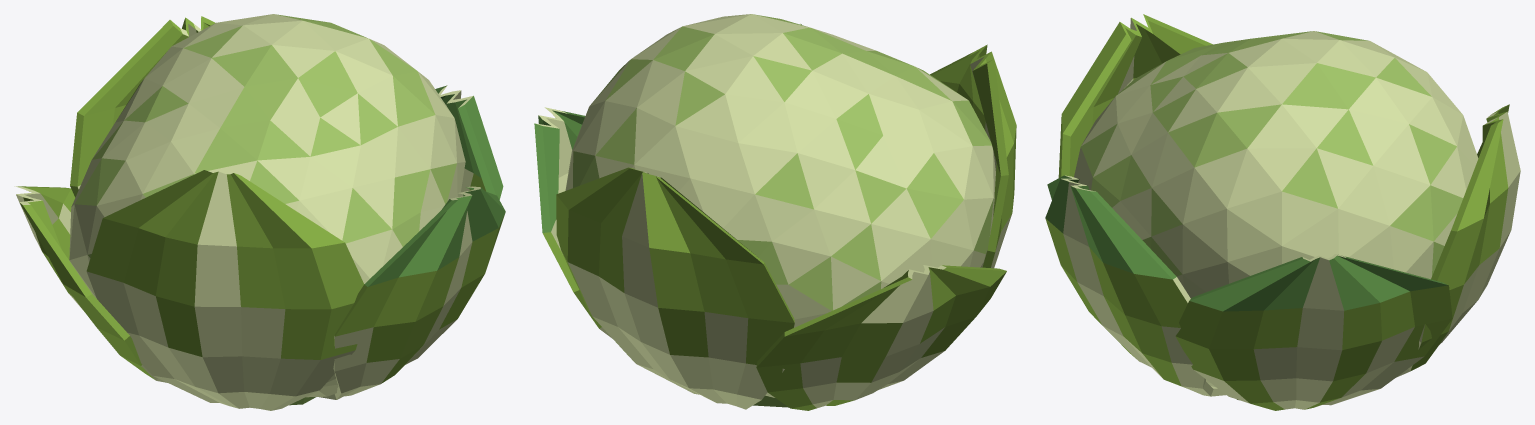
Rendered from mdvl_food_cabbage_01.glb.
3 views of the same model, side by side, from view 1: azimuth 30°, elevation 25°; view 2: azimuth 150°, elevation 25°; view 3: azimuth 270°, elevation 25° (orthographic). The views are drawn at different scales.
Parts seen in each view (by area): view 1: mdvl_food_cabbage_01; view 2: mdvl_food_cabbage_01; view 3: mdvl_food_cabbage_01.
Boxes of the visible parts, x1,y1,x2,y2 form: mdvl_food_cabbage_01: [15, 14, 505, 410]; mdvl_food_cabbage_01: [534, 14, 1016, 410]; mdvl_food_cabbage_01: [1045, 14, 1520, 410].
Size of the model in its own units: 0.1718 by 0.1322 by 0.1655.
1 material, 1 textured.
